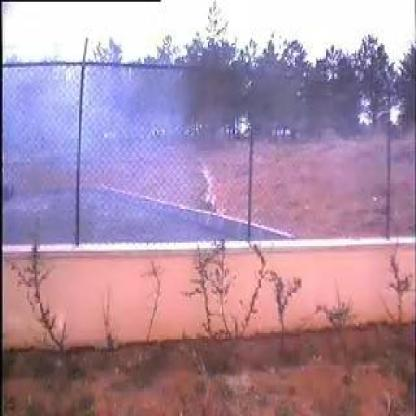-: (44, 68, 215, 230)
